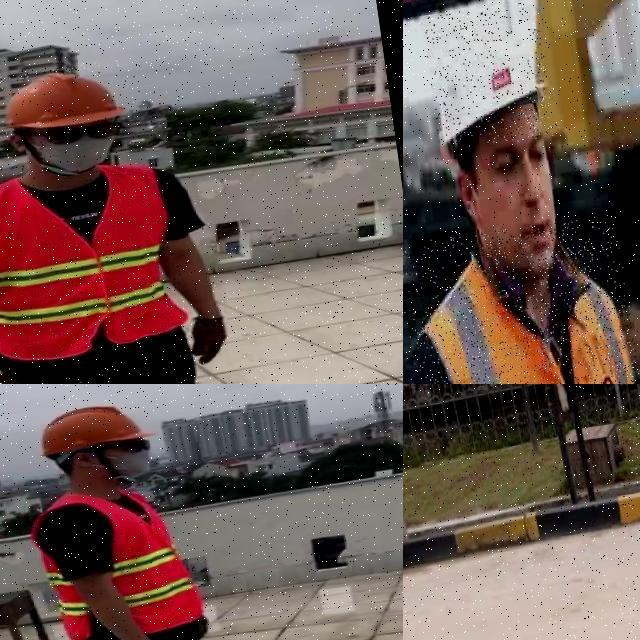helmet: (422, 1, 556, 152), (0, 59, 130, 137), (30, 396, 154, 460)
vest: (403, 213, 640, 384), (0, 160, 192, 367), (24, 476, 201, 640)
